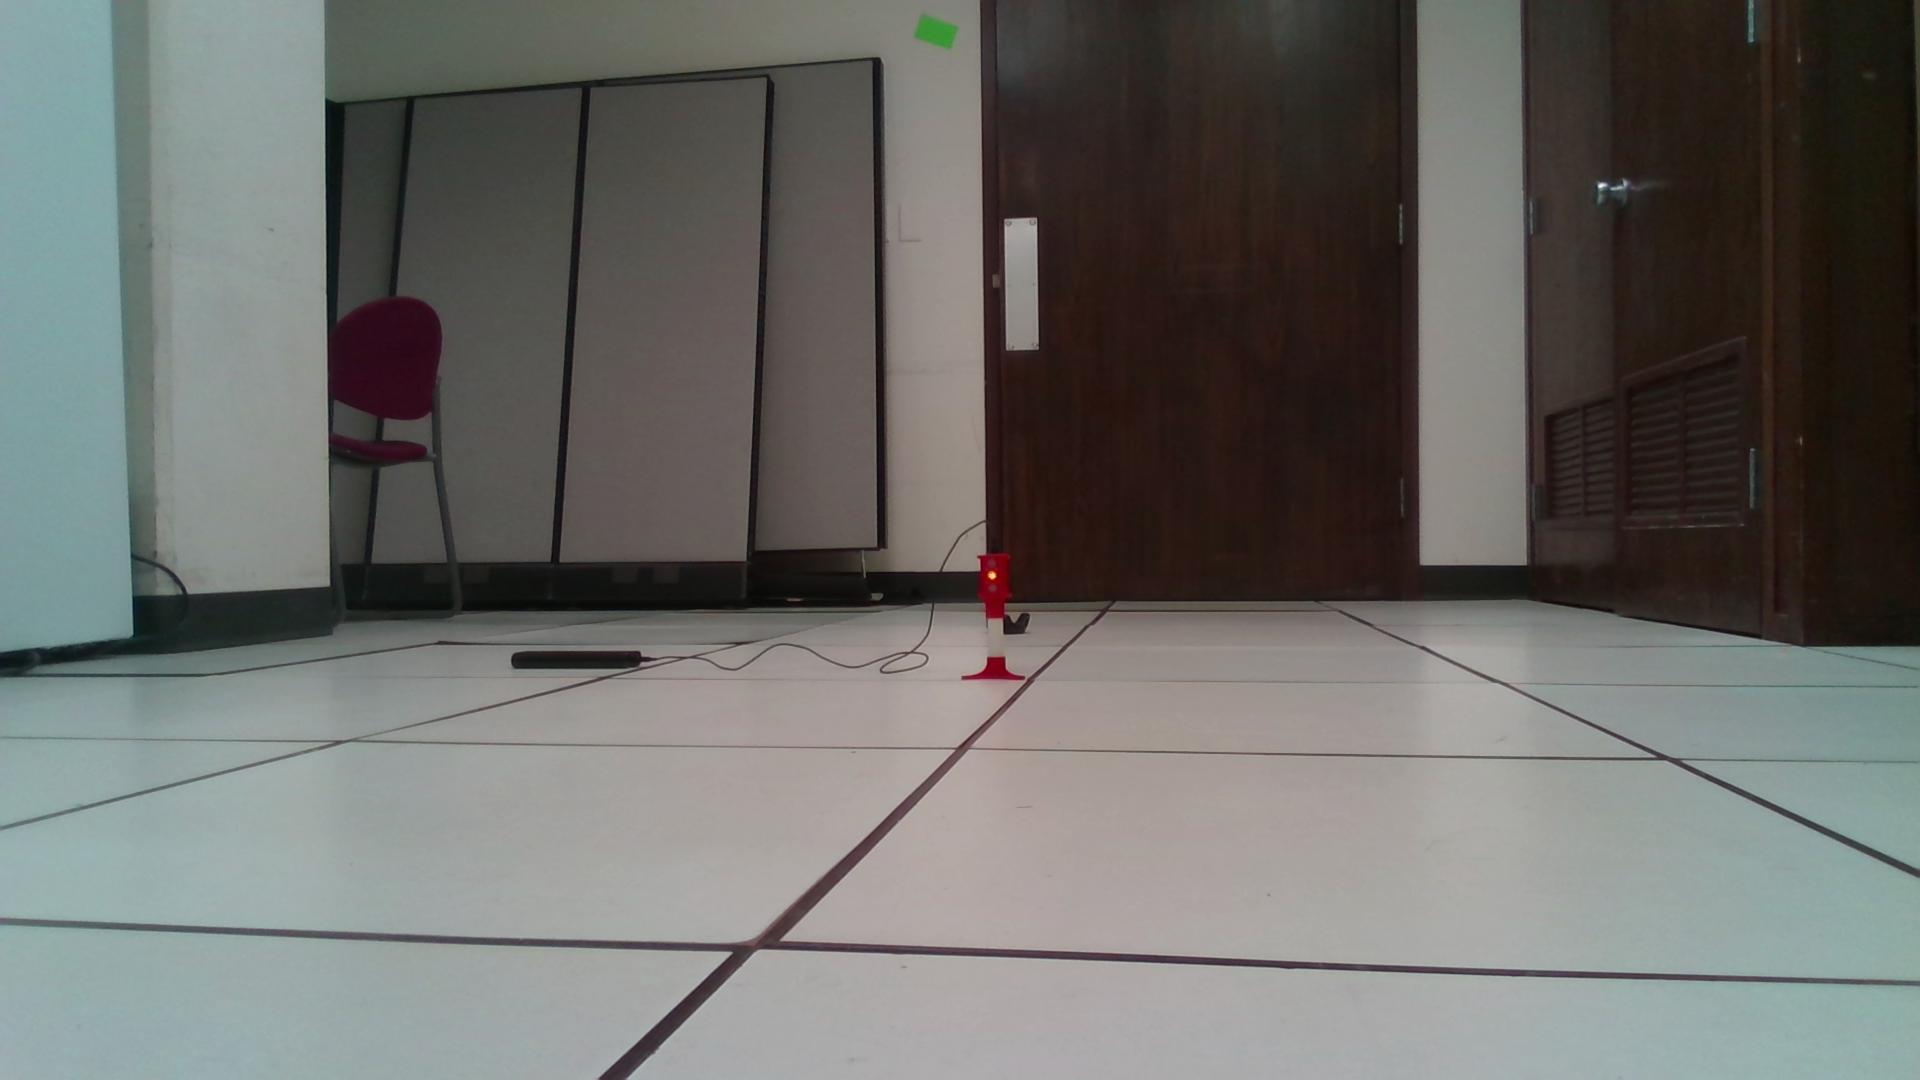stoplight: (976, 553, 1011, 620)
